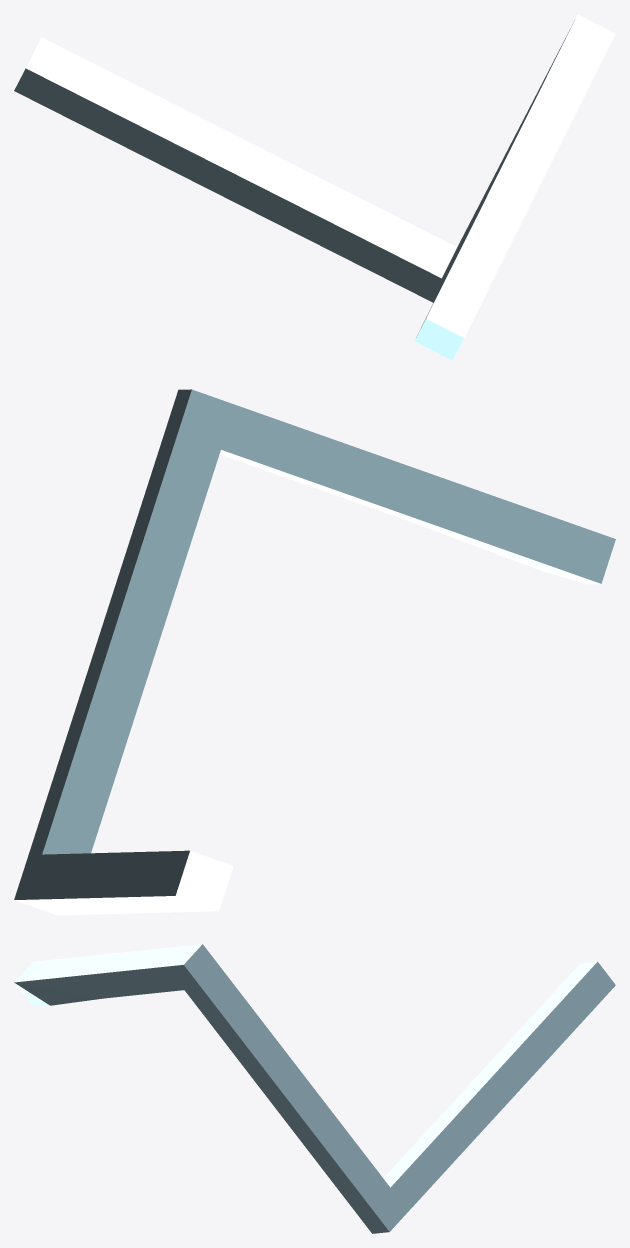
The model's file is triangle.gltf.
The picture shows the model from 3 angles, top to bottom: view 1: azimuth 30°, elevation 25°; view 2: azimuth 150°, elevation 25°; view 3: azimuth 270°, elevation 25°; orthographic projection. The views are drawn at different scales.
Parts seen in each view (by area): view 1: Box001; view 2: Box001; view 3: Box001.
Part boxes in pixels (x1,y1,x2,y2): Box001: (14, 14, 615, 360); Box001: (14, 389, 615, 915); Box001: (14, 944, 615, 1233).
Size of the model in its own units: 4.14 by 4.72 by 8.96.
